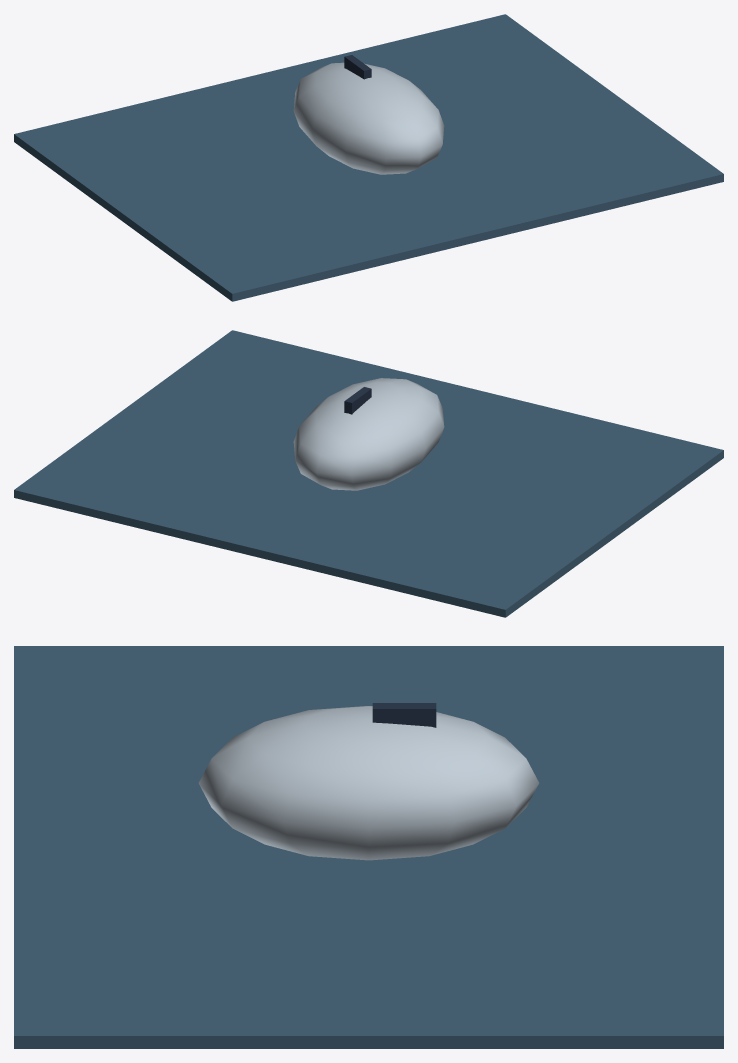
File: officeMouse.glb
3 views of the same model, one above another, from view 1: azimuth 30°, elevation 25°; view 2: azimuth 150°, elevation 25°; view 3: azimuth 270°, elevation 25° (orthographic). The views are drawn at different scales.
Bounding box in the file's own units: 0.26 × 0.046 × 0.2.
